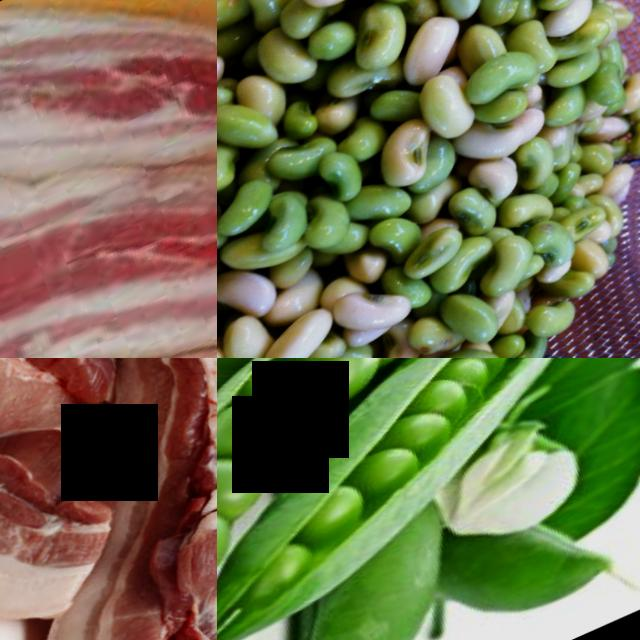peas: (217, 0, 640, 358), (217, 358, 603, 640)
pork belly: (0, 0, 217, 313), (0, 389, 199, 640), (43, 358, 217, 640), (0, 135, 217, 358), (9, 545, 217, 640), (0, 358, 138, 489), (0, 276, 217, 358)
